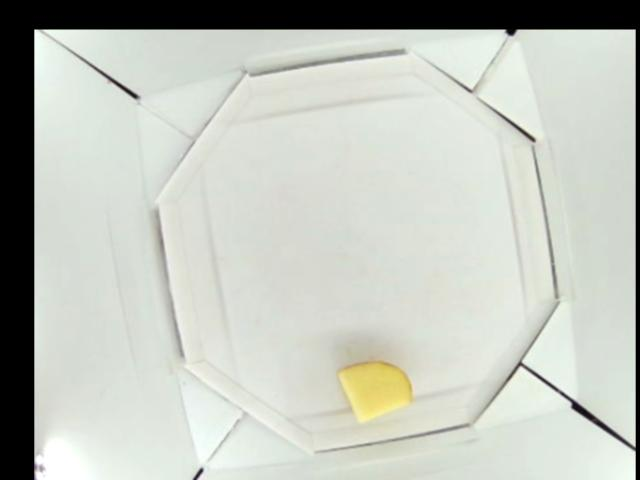Potato: (337, 360, 413, 420)
